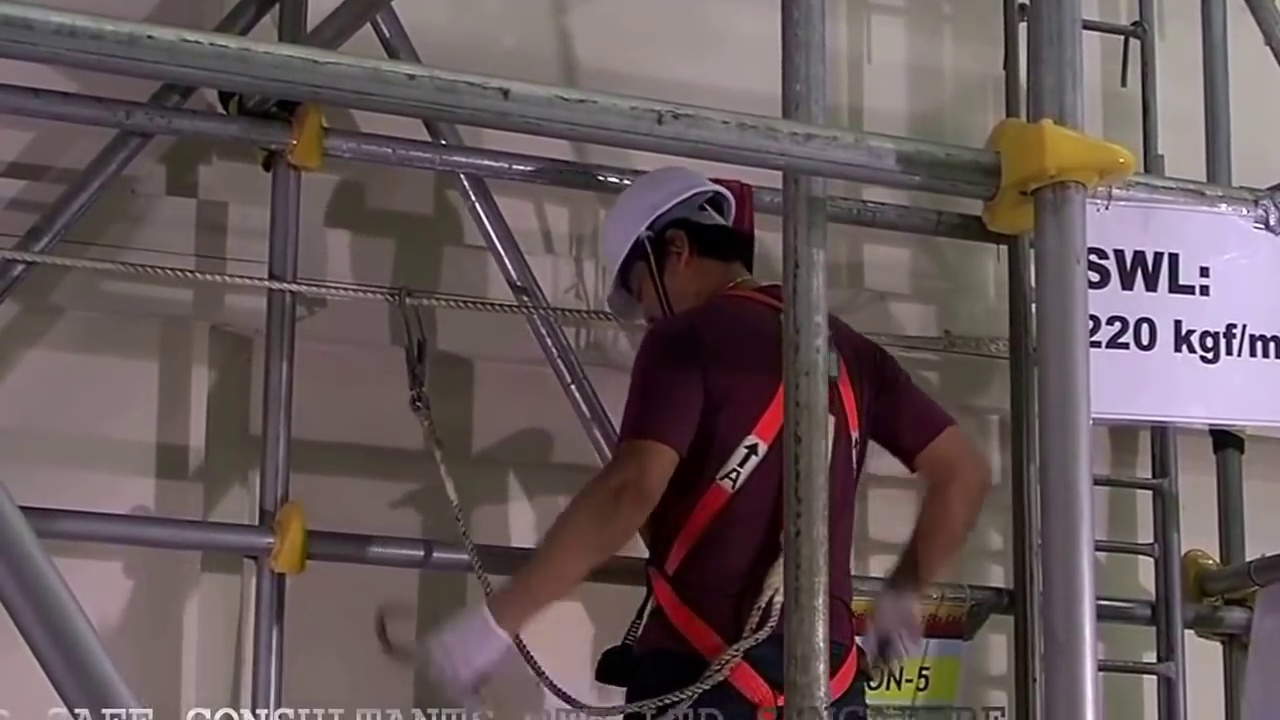harness: (665, 360, 862, 690)
helmet: (599, 169, 729, 295)
hook: (379, 280, 441, 385)
leash: (408, 399, 637, 715)
